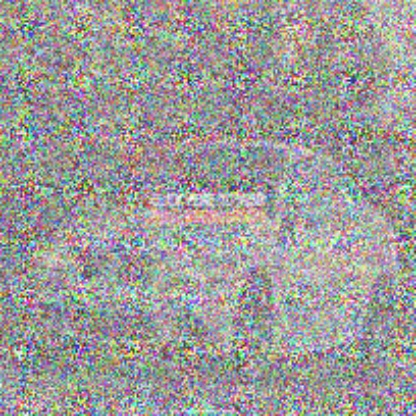Vehicle: (29, 143, 403, 385)
